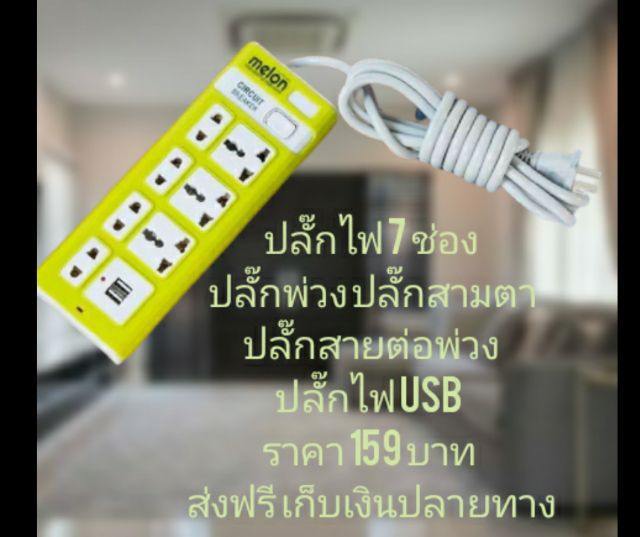Three_eye_plug: (40, 40, 343, 376)
